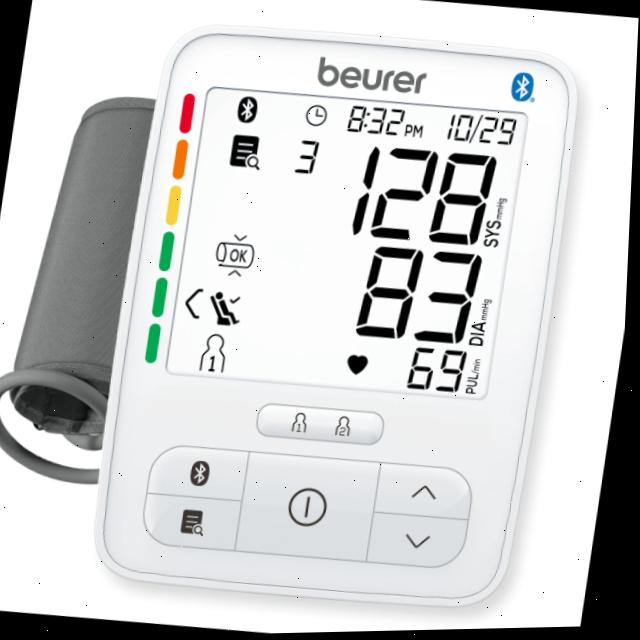dia: (349, 240, 491, 353)
pul: (403, 341, 475, 400)
ssd: (172, 85, 528, 404)
sys: (345, 140, 504, 252)
